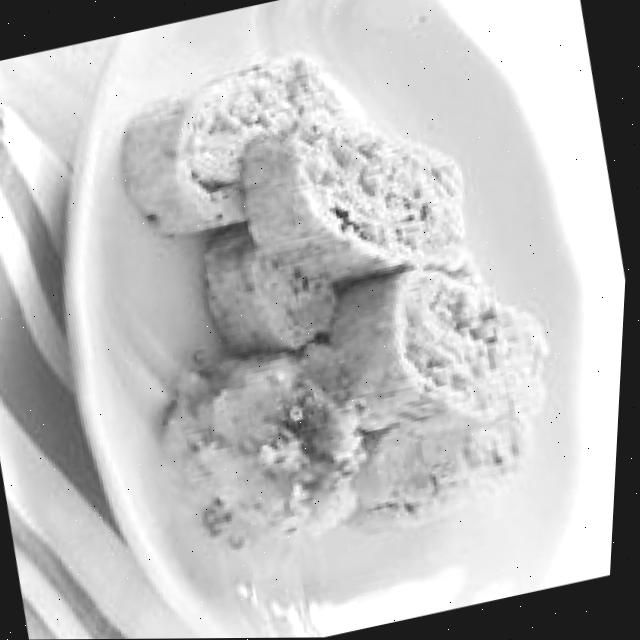鸡蛋料理: (83, 1, 603, 602)
